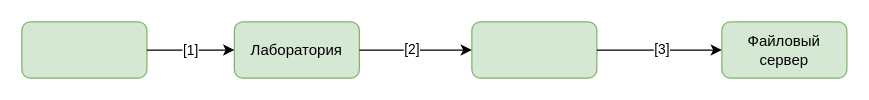
Image size: 869x100. Some labels were removed from this diagram. Here are the shapes that lost their labels. From the top down, the centre of each, then its label:
At pixel 84 49: "Пациент".
At pixel 534 49: "PDF".
